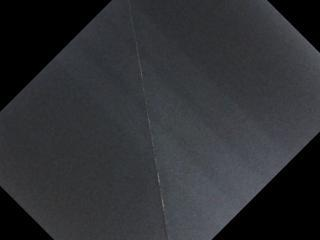crack: (123, 0, 175, 240)
